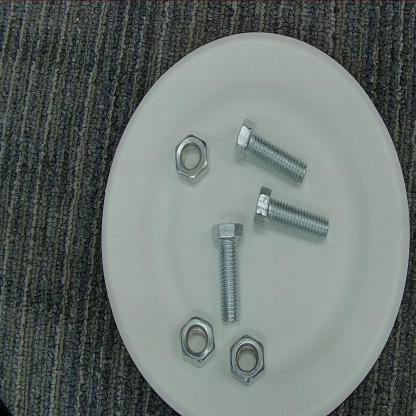FOD: (230, 117, 308, 191), (251, 182, 333, 248), (208, 218, 248, 326), (176, 310, 217, 374), (171, 130, 213, 188), (226, 330, 268, 388)
